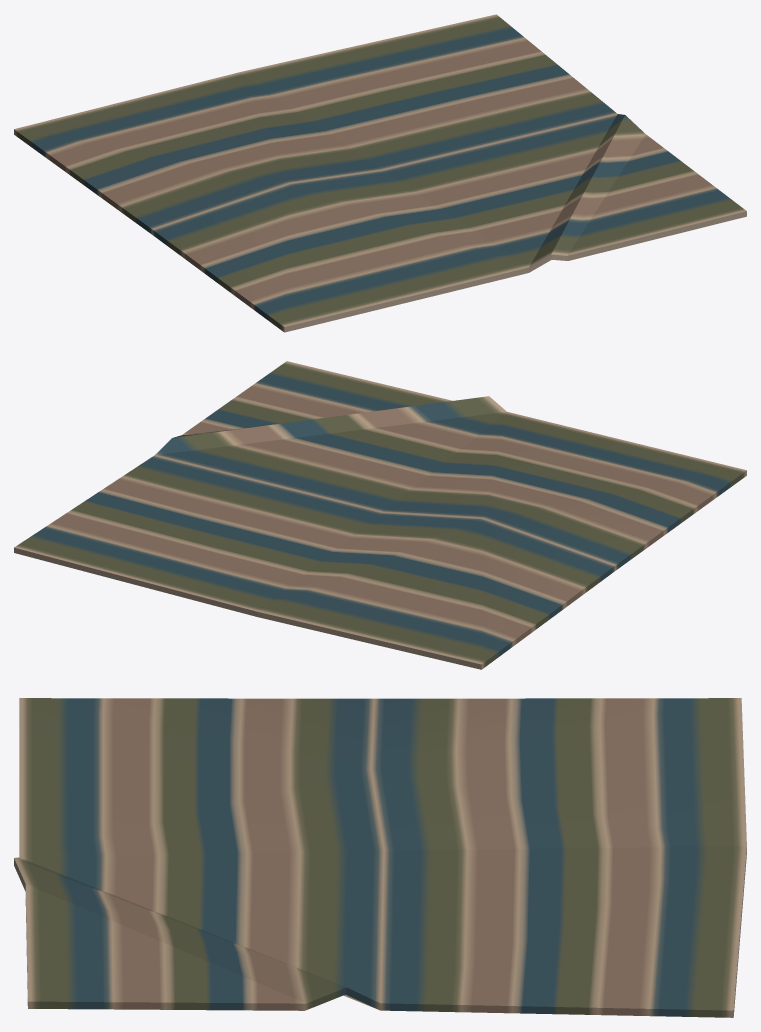
The model's file is SM_Prop_Rug_32.fbx.
3 views of the same model, one above another, from view 1: azimuth 30°, elevation 25°; view 2: azimuth 150°, elevation 25°; view 3: azimuth 270°, elevation 25° (orthographic). The views are drawn at different scales.
Visible parts, largest first — view 1: SM_Prop_Rug_32; view 2: SM_Prop_Rug_32; view 3: SM_Prop_Rug_32.
Boxes of the visible parts, bbox=[...] form: SM_Prop_Rug_32: bbox=[14, 14, 746, 332]; SM_Prop_Rug_32: bbox=[14, 361, 746, 669]; SM_Prop_Rug_32: bbox=[14, 698, 746, 1017].
Size of the model in its own units: 309 by 11.99 by 306.
